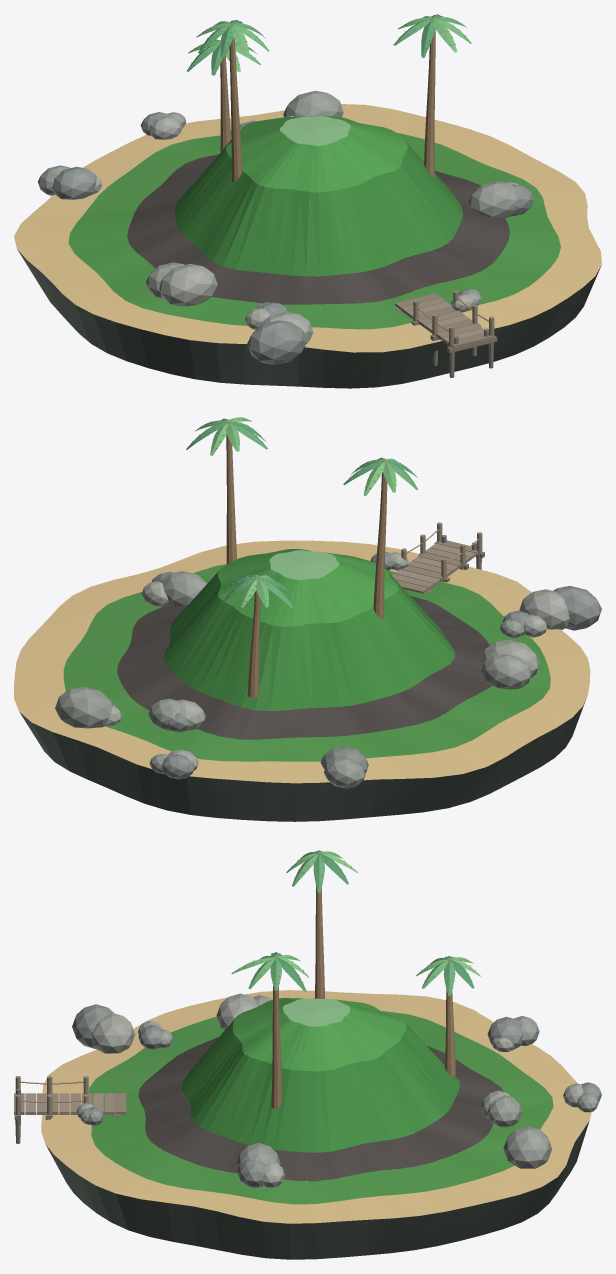
Rendered from island_large_volcanic.glb.
3 renders of one model, top to bottom at view 1: azimuth 30°, elevation 25°; view 2: azimuth 150°, elevation 25°; view 3: azimuth 270°, elevation 25°, orthographic. The views are drawn at different scales.
Visible parts, largest first — view 1: Island_Volcanic_Key_Beach, Island_Volcanic_Key_Meadow_Inner, Island_Volcanic_Key_Meadow_Outer, Island_Volcanic_Key_Underwater_Rock, Island_Volcanic_Key_Rock_Slope, Island_Volcanic_Key_Hilltop, PalmTree_01, RockCluster_05, PalmTree_02, RockCluster_01, RockCluster_07, RockCluster_02 (+5 smaller); view 2: Island_Volcanic_Key_Beach, Island_Volcanic_Key_Meadow_Inner, Island_Volcanic_Key_Meadow_Outer, Island_Volcanic_Key_Underwater_Rock, Island_Volcanic_Key_Rock_Slope, Island_Volcanic_Key_Hilltop, RockCluster_05, PalmTree_02, PalmTree_01, RockCluster_01, PalmTree_03, RockCluster_04 (+6 smaller); view 3: Island_Volcanic_Key_Beach, Island_Volcanic_Key_Meadow_Inner, Island_Volcanic_Key_Meadow_Outer, Island_Volcanic_Key_Underwater_Rock, Island_Volcanic_Key_Rock_Slope, Island_Volcanic_Key_Hilltop, RockCluster_05, PalmTree_01, PalmTree_02, PalmTree_03, RockCluster_07, RockCluster_04 (+6 smaller).
Part boxes in pixels (<box>): Island_Volcanic_Key_Beach: <box>14,104,601,352</box>; Island_Volcanic_Key_Meadow_Inner: <box>175,140,462,276</box>; Island_Volcanic_Key_Meadow_Outer: <box>68,132,560,329</box>; Island_Volcanic_Key_Underwater_Rock: <box>17,249,600,388</box>; Island_Volcanic_Key_Rock_Slope: <box>127,154,509,304</box>; Island_Volcanic_Key_Hilltop: <box>226,116,407,192</box>; PalmTree_01: <box>393,14,471,176</box>; RockCluster_05: <box>247,311,313,364</box>; PalmTree_02: <box>196,19,269,182</box>; RockCluster_01: <box>146,262,217,306</box>; RockCluster_07: <box>468,181,533,218</box>; RockCluster_02: <box>38,165,102,199</box>; Island_Volcanic_Key_Beach: <box>14,540,590,783</box>; Island_Volcanic_Key_Meadow_Inner: <box>163,570,454,710</box>; Island_Volcanic_Key_Meadow_Outer: <box>63,564,550,761</box>; Island_Volcanic_Key_Underwater_Rock: <box>19,540,586,821</box>; Island_Volcanic_Key_Rock_Slope: <box>117,596,492,739</box>; Island_Volcanic_Key_Hilltop: <box>217,549,398,626</box>; RockCluster_05: <box>519,586,601,630</box>; PalmTree_02: <box>343,457,417,619</box>; PalmTree_01: <box>186,417,267,564</box>; RockCluster_01: <box>481,639,539,689</box>; PalmTree_03: <box>223,574,293,697</box>; RockCluster_04: <box>55,686,121,728</box>; Island_Volcanic_Key_Beach: <box>41,990,591,1223</box>; Island_Volcanic_Key_Meadow_Inner: <box>181,1019,459,1152</box>; Island_Volcanic_Key_Meadow_Outer: <box>89,1011,553,1204</box>; Island_Volcanic_Key_Underwater_Rock: <box>45,1121,589,1259</box>; Island_Volcanic_Key_Rock_Slope: <box>138,1037,503,1181</box>; Island_Volcanic_Key_Hilltop: <box>232,998,406,1071</box>; RockCluster_05: <box>72,1004,135,1053</box>; PalmTree_01: <box>231,952,309,1108</box>; PalmTree_02: <box>286,850,357,998</box>; PalmTree_03: <box>416,956,480,1076</box>; RockCluster_07: <box>236,1143,284,1188</box>; RockCluster_04: <box>503,1126,551,1168</box>.
Size of the model in its own units: 20.51 by 10.59 by 21.81.
